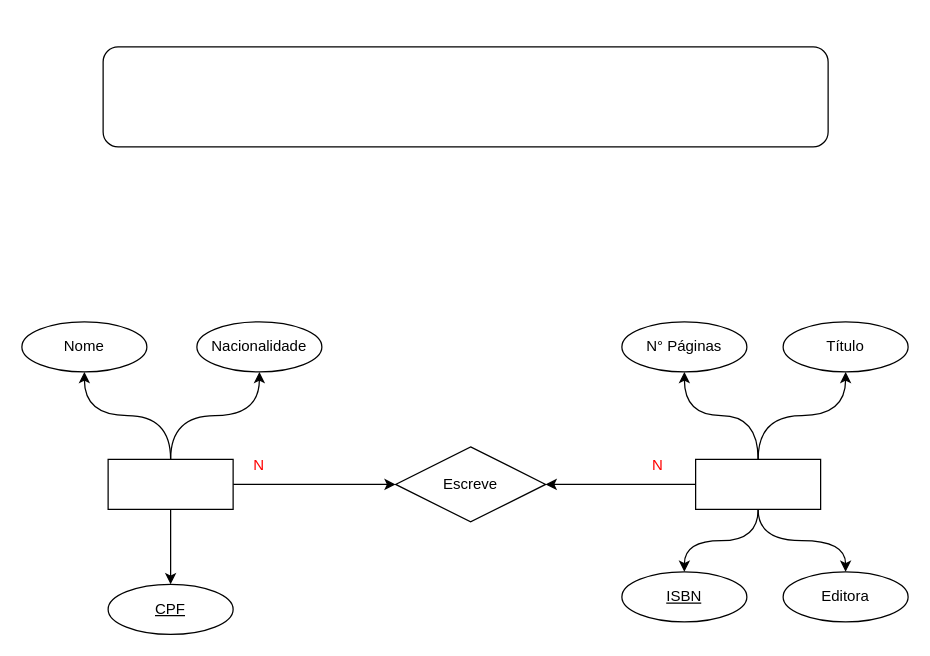
Image size: 930x656. Some labels were removed from this diagram. Each missing label, with the box of its shape:
Autor: (107, 458, 233, 509)
Diagrama - Exercício 3, Slide 2: (102, 46, 828, 147)
Livro: (694, 458, 821, 509)
